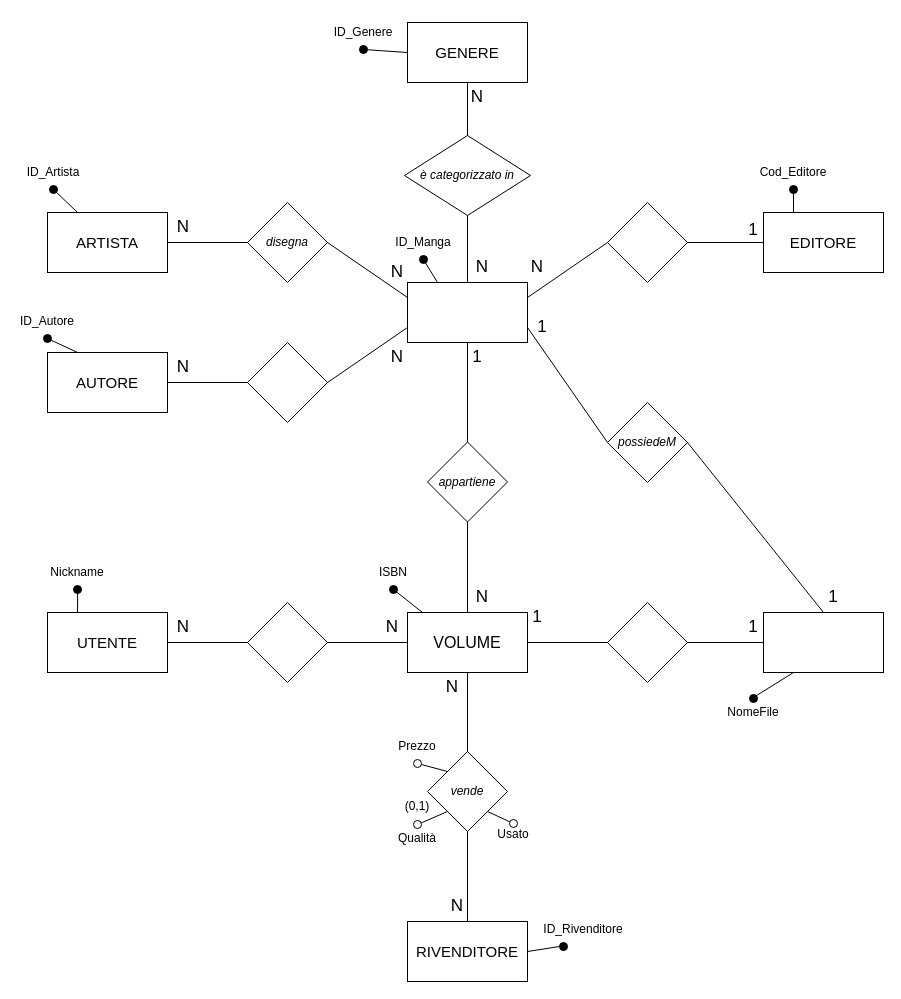
The diagram is 901 pixels wide and 999 high, and some of its shapes have lost their labels. The shapes that lost their labels are listed below. From the top down, each one's centre as x and y in pixels, then its label:
the point at 647,242: produce
the point at 467,312: MANGA
the point at 287,382: scrive
the point at 287,642: possiede
the point at 647,642: possiedeV
the point at 823,642: COPERTINA
